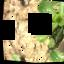Purslane: (2, 0, 64, 64)
